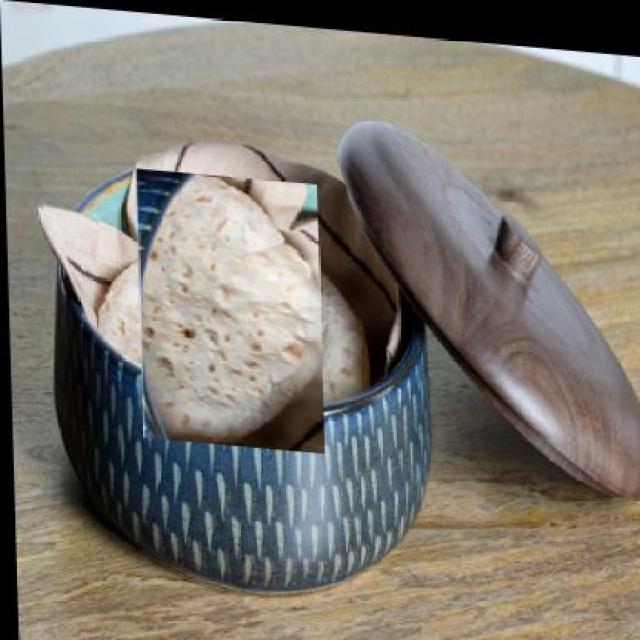chapati: (114, 187, 346, 430)
